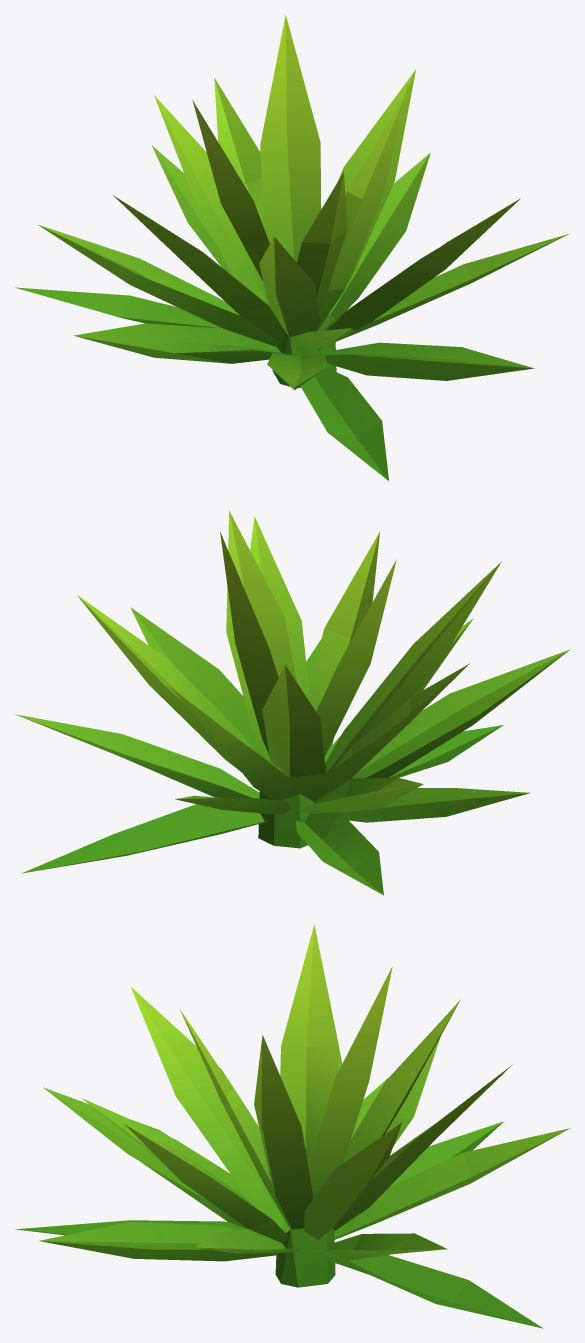
3 renders of one model, top to bottom at view 1: azimuth 30°, elevation 25°; view 2: azimuth 150°, elevation 25°; view 3: azimuth 270°, elevation 25°, orthographic. The views are drawn at different scales.
Parts seen in each view (by area): view 1: AgaveLow; view 2: AgaveLow; view 3: AgaveLow.
Part boxes in pixels (left/top/right/bottom): AgaveLow: left=15, top=15, right=569, bottom=480; AgaveLow: left=14, top=510, right=570, bottom=895; AgaveLow: left=15, top=925, right=570, bottom=1328.
Bounding box in the file's own units: 86.67 × 60 × 94.39.
Materials: 1 (1 with a texture image).
